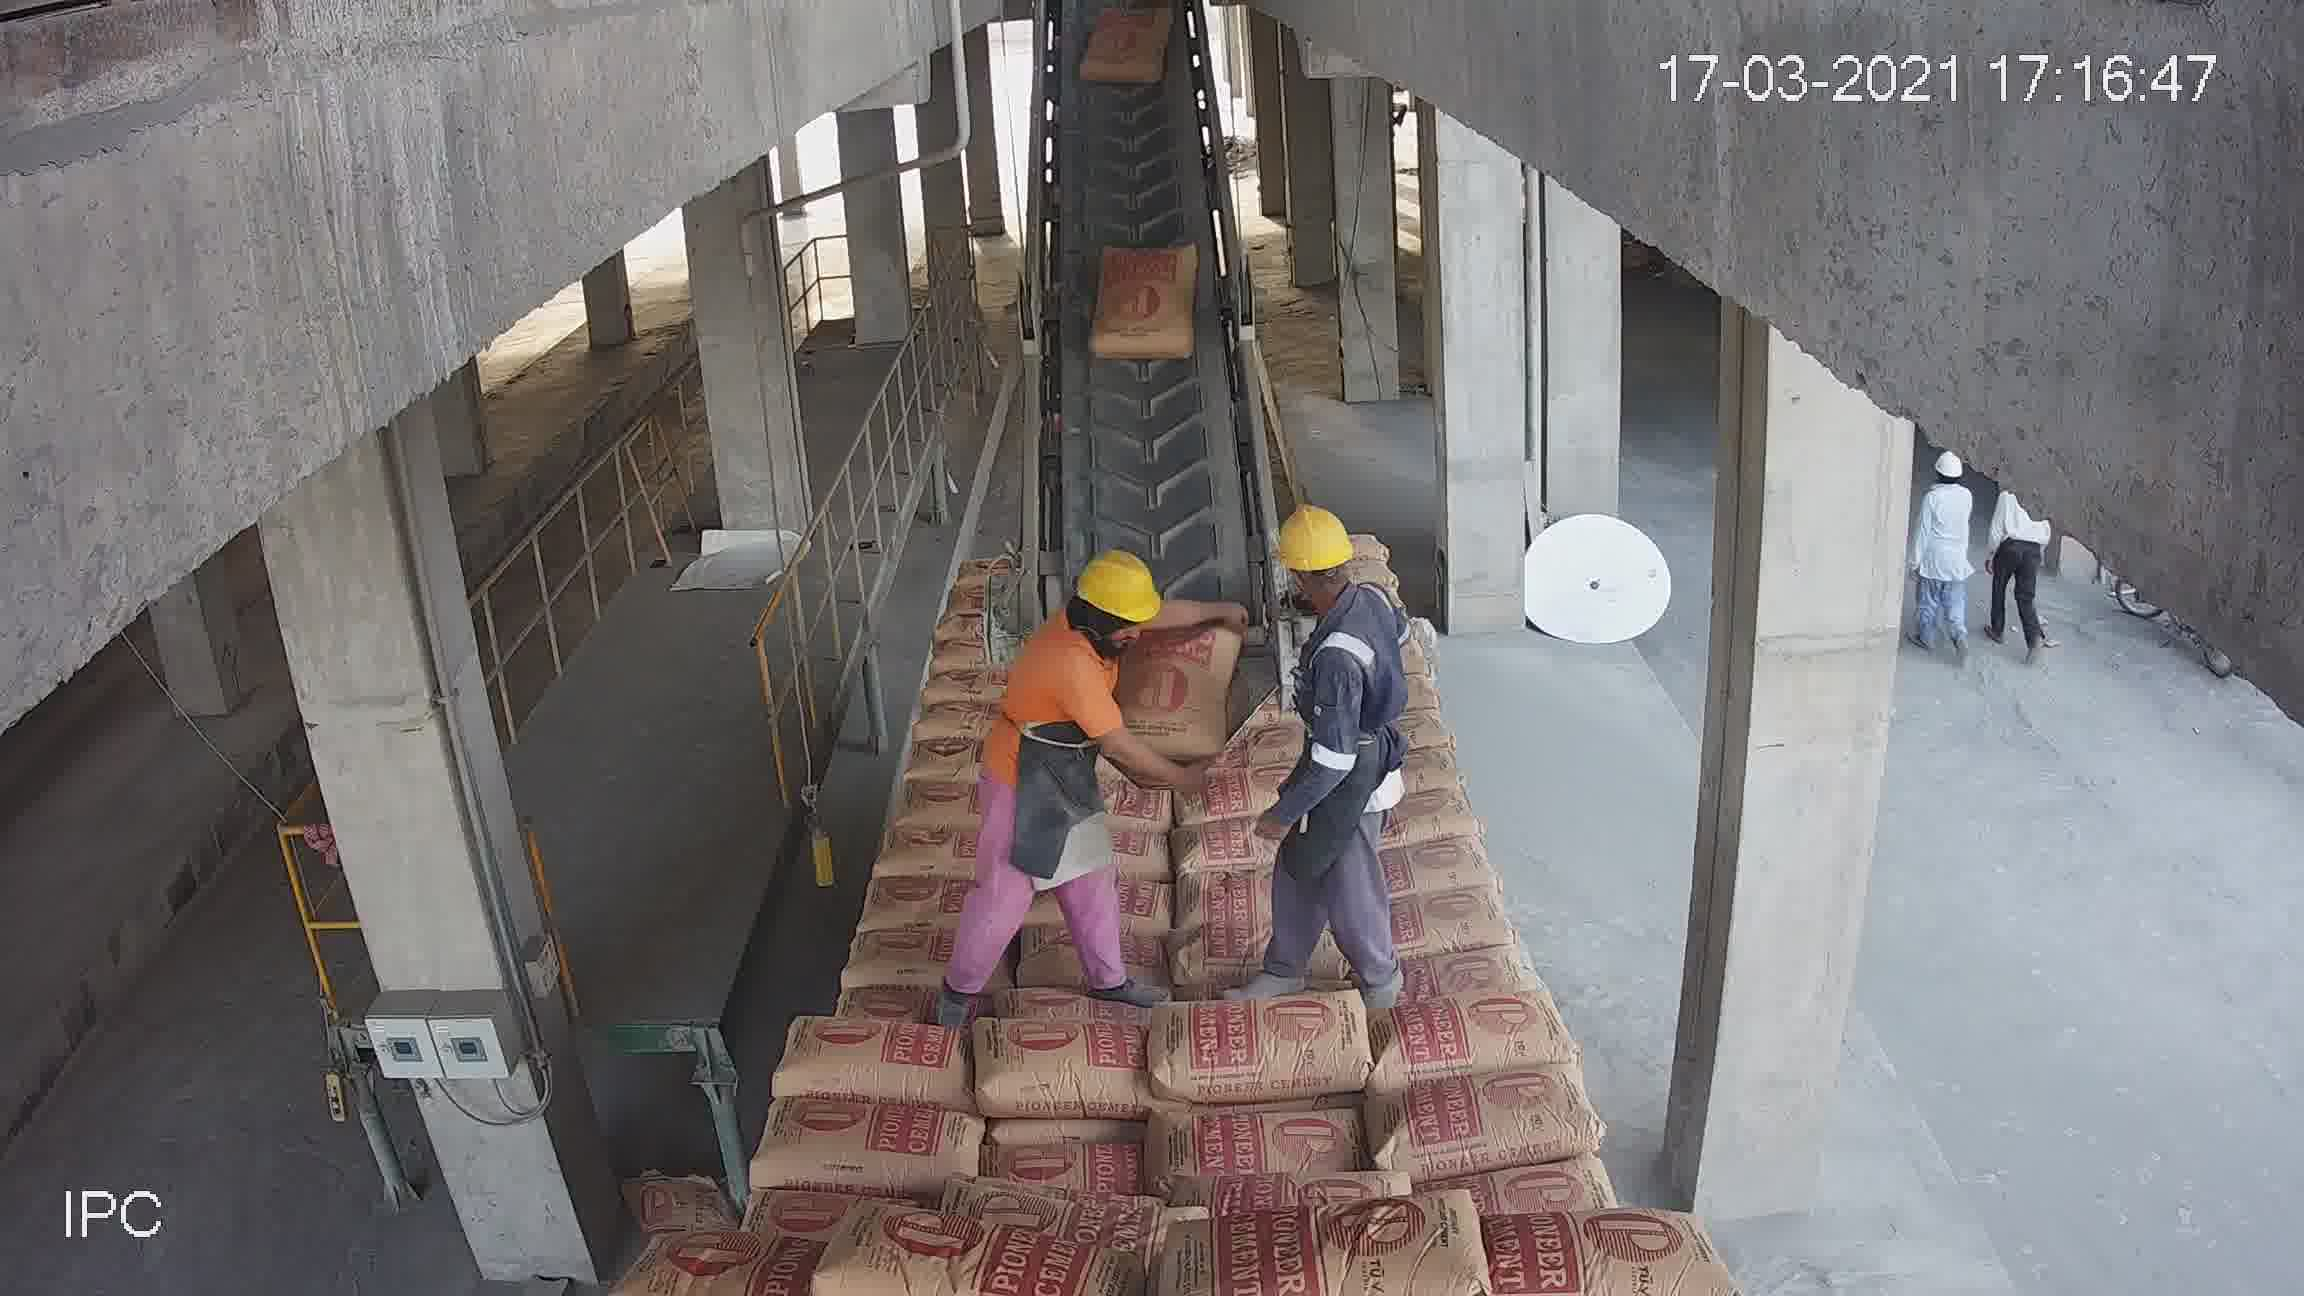bag: (1086, 239, 1195, 354), (1127, 636, 1228, 745)
bag_h: (1158, 1196, 1467, 1296), (1133, 984, 1369, 1105), (788, 1215, 1128, 1294), (1445, 1203, 1711, 1294), (1378, 1079, 1589, 1193), (748, 1100, 994, 1196), (1355, 1002, 1582, 1100), (973, 1010, 1149, 1127), (1160, 1109, 1366, 1195), (772, 1022, 978, 1106), (631, 1225, 851, 1294), (1367, 940, 1537, 1021), (1388, 872, 1510, 967), (813, 972, 961, 1040), (987, 1141, 1155, 1198), (1381, 829, 1499, 896), (842, 921, 957, 987), (1173, 761, 1274, 832), (859, 875, 972, 930), (1176, 812, 1274, 873), (877, 821, 980, 870), (1179, 869, 1260, 930), (897, 771, 980, 826)
belt: (1019, 11, 1272, 668)
